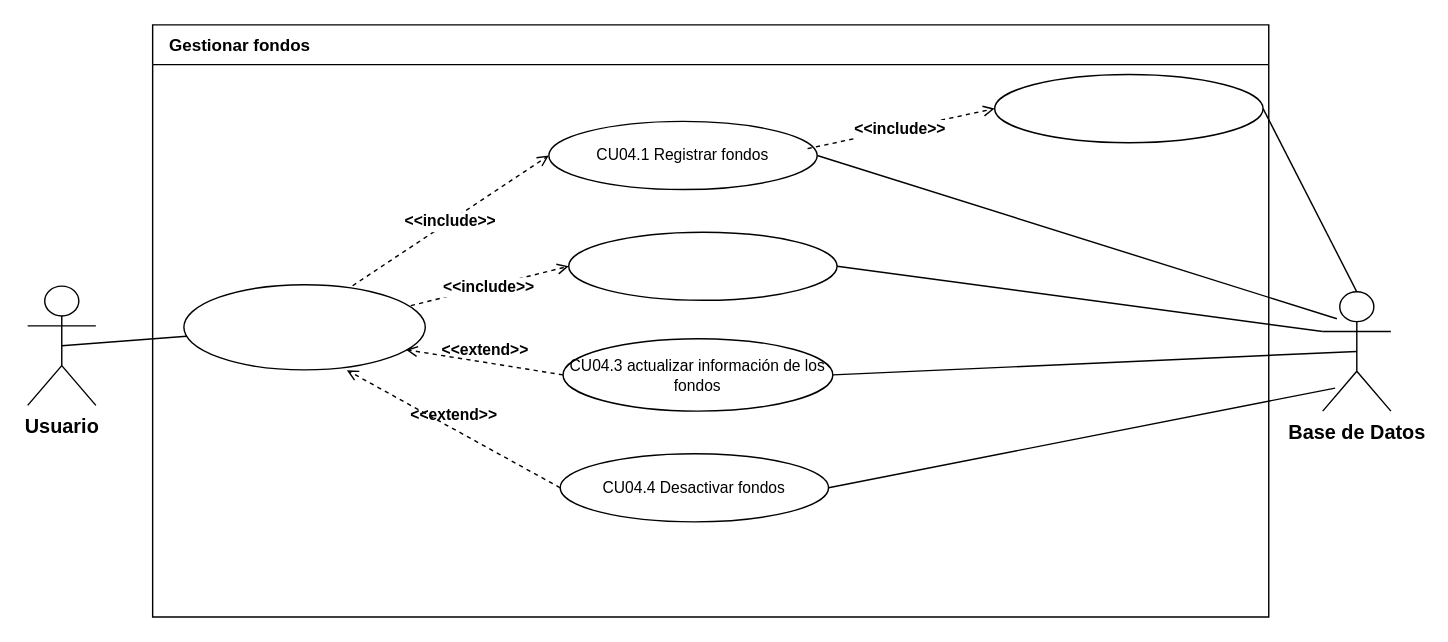
Some shapes in this 1448 by 642 pixel diagram are drawn without their labels. Each missing label, with the centre of its shape:
"CU04 Gestionar fondo" belongs at pixel 303 326.
"CU04.2 visualizar el saldo actual" belongs at pixel 702 265.
"CU05.2 A sociar fondos a movimientos" belongs at pixel 1128 108.
